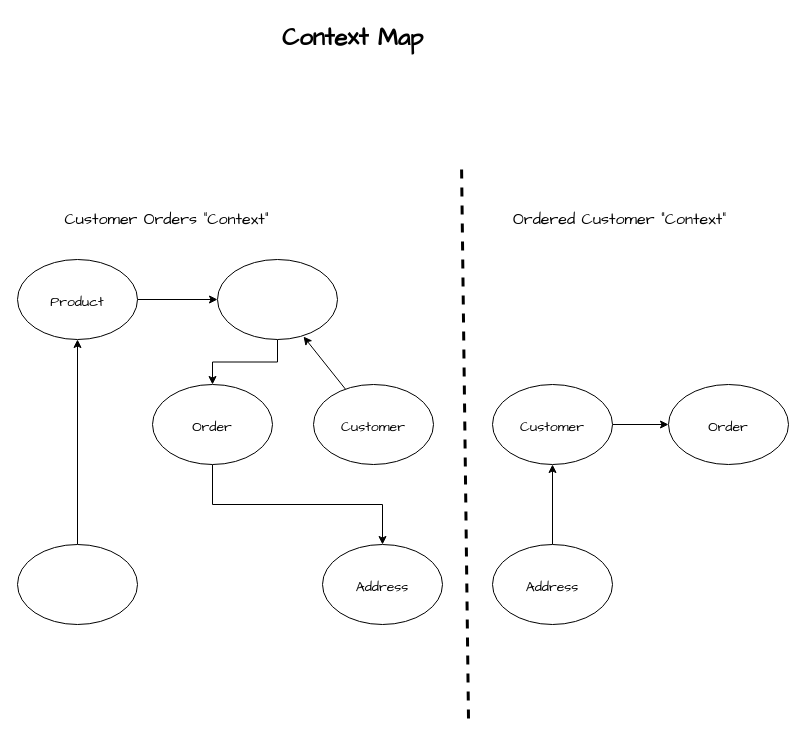
This 806x738 diagram has some shape labels left out. Each missing label, with the box of its shape:
Category: (16, 544, 138, 624)
OrderItem: (216, 258, 338, 340)
